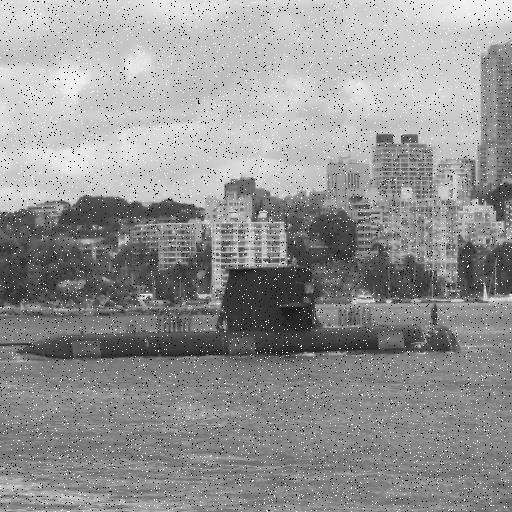submarine: (13, 270, 470, 357)
